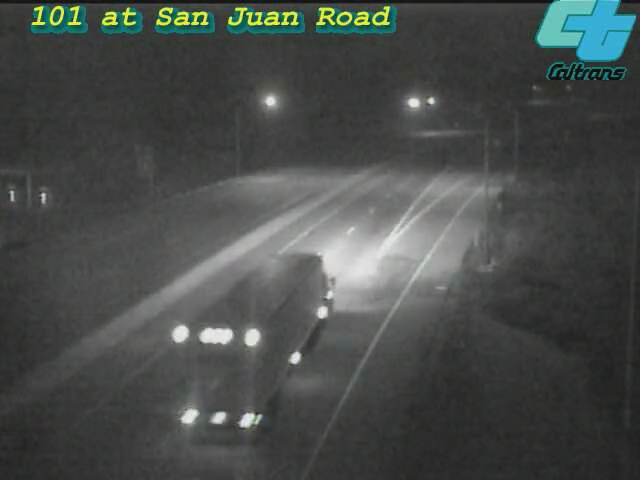vehicle: (210, 275, 320, 385)
